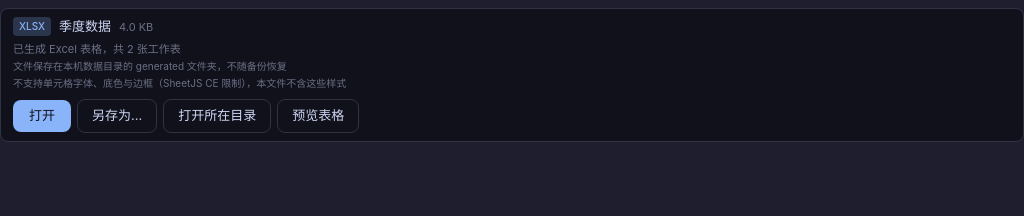
Test: XLSX 产物卡片 › SheetJS 读失败（error 非空）→ 如实报读取失败，不画空表
Click the button "预览表格" at (318, 116), box [277,99,359,132]
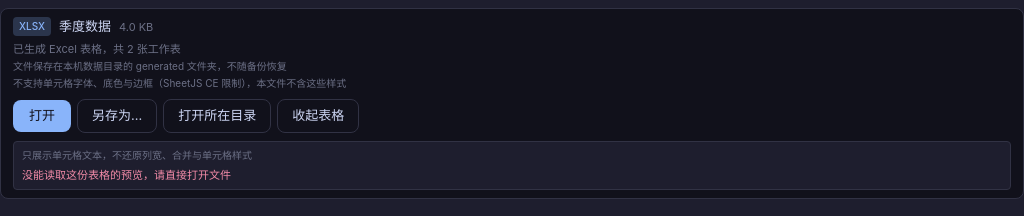
Now the text "没能读取这份表格的预览，请直接打开文件" is shown, box [22,168,231,182]
